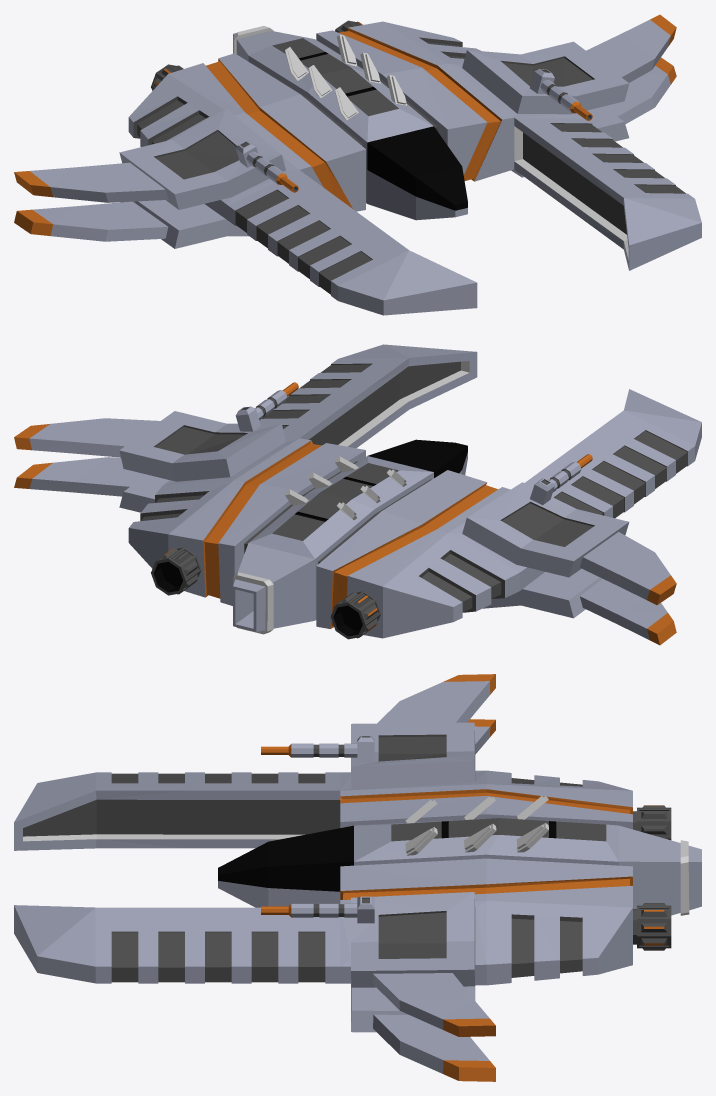
The model's file is Spaceship8_4.fbx.
3 views of the same model, one above another, from view 1: azimuth 30°, elevation 25°; view 2: azimuth 150°, elevation 25°; view 3: azimuth 270°, elevation 25° (orthographic). The views are drawn at different scales.
Parts seen in each view (by area): view 1: Spaceship8_4; view 2: Spaceship8_4; view 3: Spaceship8_4.
Part boxes in pixels (bbox=[...]): Spaceship8_4: bbox=[14, 14, 701, 315]; Spaceship8_4: bbox=[14, 344, 701, 645]; Spaceship8_4: bbox=[14, 674, 701, 1081].
Bounding box in the file's own units: 1782 × 284 × 1474.
